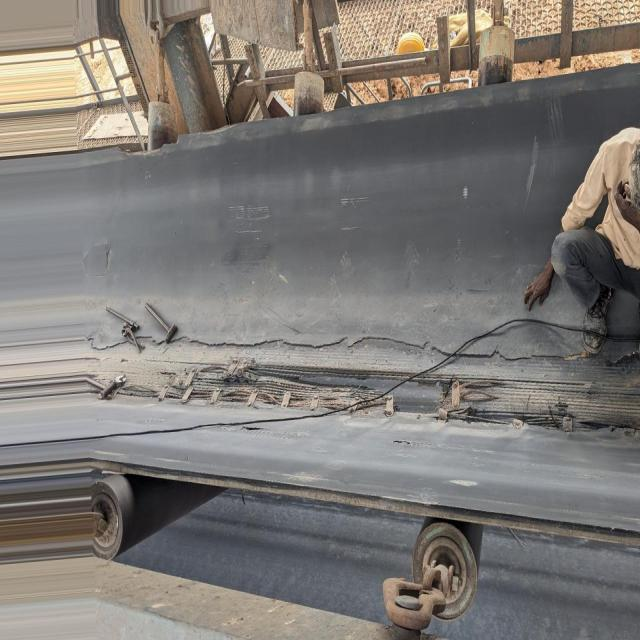Human: (522, 123, 640, 365)
Other Objects: (95, 480, 228, 558), (96, 293, 186, 365)
Roller: (410, 517, 482, 617), (475, 27, 515, 90), (294, 75, 324, 112), (146, 100, 171, 143)
Tear: (99, 340, 629, 422)
